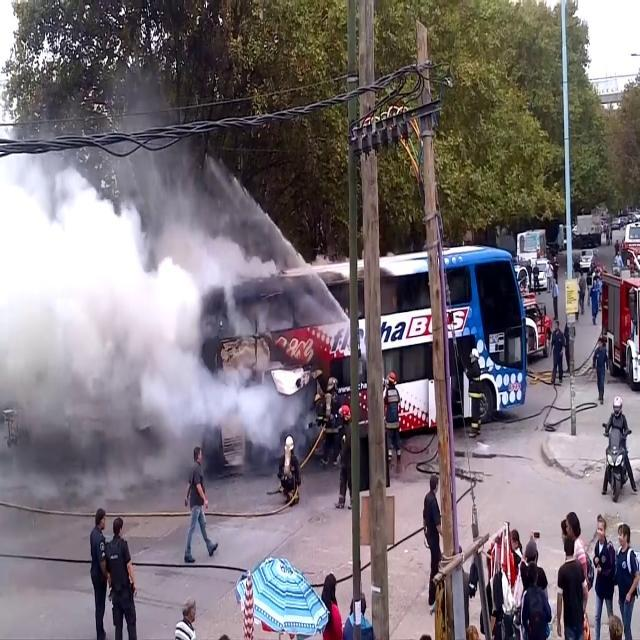Smoke: (0, 145, 274, 495)
